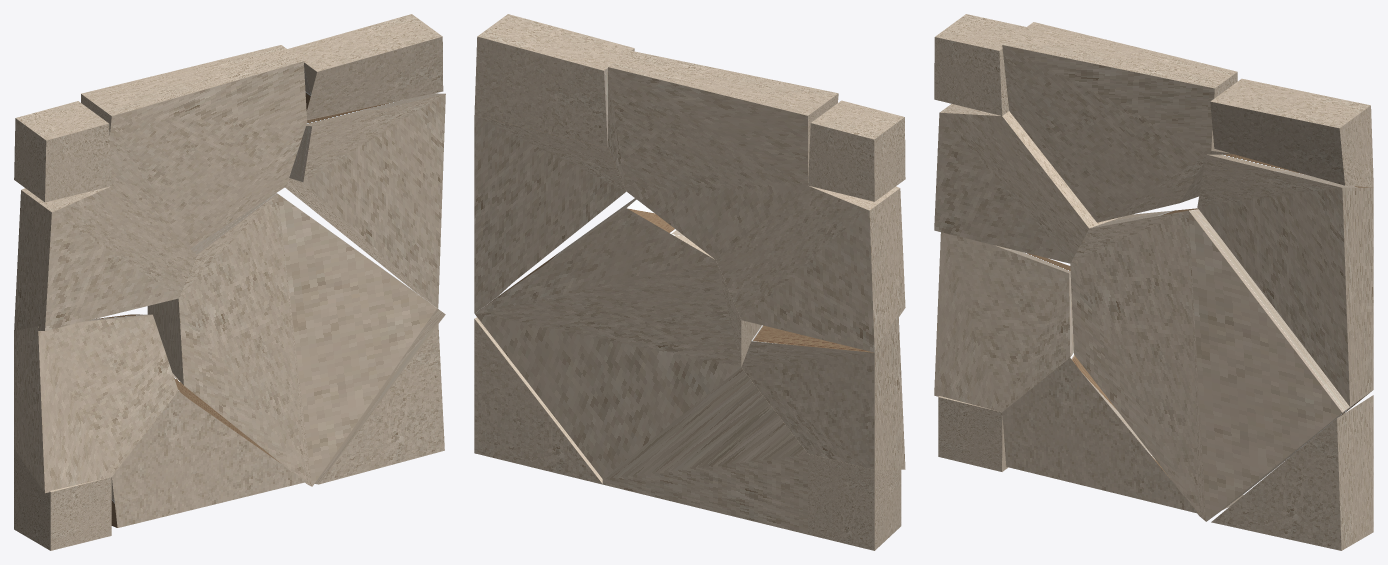
The model's file is breakwall.glb.
3 views of the same model, side by side, from view 1: azimuth 30°, elevation 25°; view 2: azimuth 150°, elevation 25°; view 3: azimuth 330°, elevation 25° (orthographic).
Parts seen in each view (by area): view 1: breakwall6-col, breakwall5-col, breakwall3-col, breakwall8-col, breakwall-col, breakwall10-col, breakwall4-col, breakwall2-col, breakwall9-col, breakwall7-col; view 2: breakwall6-col, breakwall5-col, breakwall-col, breakwall10-col, breakwall8-col, breakwall3-col, breakwall4-col, breakwall2-col, breakwall9-col, breakwall7-col; view 3: breakwall6-col, breakwall5-col, breakwall8-col, breakwall3-col, breakwall-col, breakwall10-col, breakwall2-col, breakwall4-col, breakwall9-col, breakwall7-col.
Part boxes in pixels (left/top/right/bottom): breakwall6-col: left=147, top=193, right=445, bottom=486; breakwall5-col: left=81, top=45, right=307, bottom=248; breakwall3-col: left=14, top=314, right=178, bottom=493; breakwall8-col: left=285, top=93, right=445, bottom=308; breakwall-col: left=14, top=186, right=196, bottom=330; breakwall10-col: left=111, top=374, right=306, bottom=527; breakwall4-col: left=287, top=14, right=443, bottom=120; breakwall2-col: left=315, top=324, right=444, bottom=484; breakwall9-col: left=14, top=101, right=111, bottom=202; breakwall7-col: left=14, top=449, right=111, bottom=550; breakwall6-col: left=475, top=198, right=761, bottom=478; breakwall5-col: left=608, top=50, right=838, bottom=259; breakwall-col: left=715, top=185, right=905, bottom=352; breakwall10-col: left=602, top=368, right=807, bottom=534; breakwall8-col: left=474, top=115, right=626, bottom=313; breakwall3-col: left=741, top=313, right=905, bottom=469; breakwall4-col: left=474, top=14, right=634, bottom=147; breakwall2-col: left=474, top=317, right=602, bottom=484; breakwall9-col: left=808, top=100, right=905, bottom=201; breakwall7-col: left=808, top=453, right=901, bottom=550; breakwall6-col: left=1070, top=208, right=1371, bottom=521; breakwall5-col: left=1002, top=22, right=1237, bottom=222; breakwall8-col: left=1197, top=154, right=1373, bottom=406; breakwall3-col: left=934, top=232, right=1073, bottom=411; breakwall-col: left=934, top=104, right=1121, bottom=263; breakwall10-col: left=1002, top=352, right=1243, bottom=513; breakwall2-col: left=1211, top=395, right=1373, bottom=550; breakwall4-col: left=1210, top=78, right=1373, bottom=187; breakwall9-col: left=934, top=14, right=1026, bottom=115; breakwall7-col: left=938, top=396, right=1008, bottom=471.
Size of the model in its own units: 12 by 12.14 by 1.83.
Materials: 1 (1 with a texture image).
